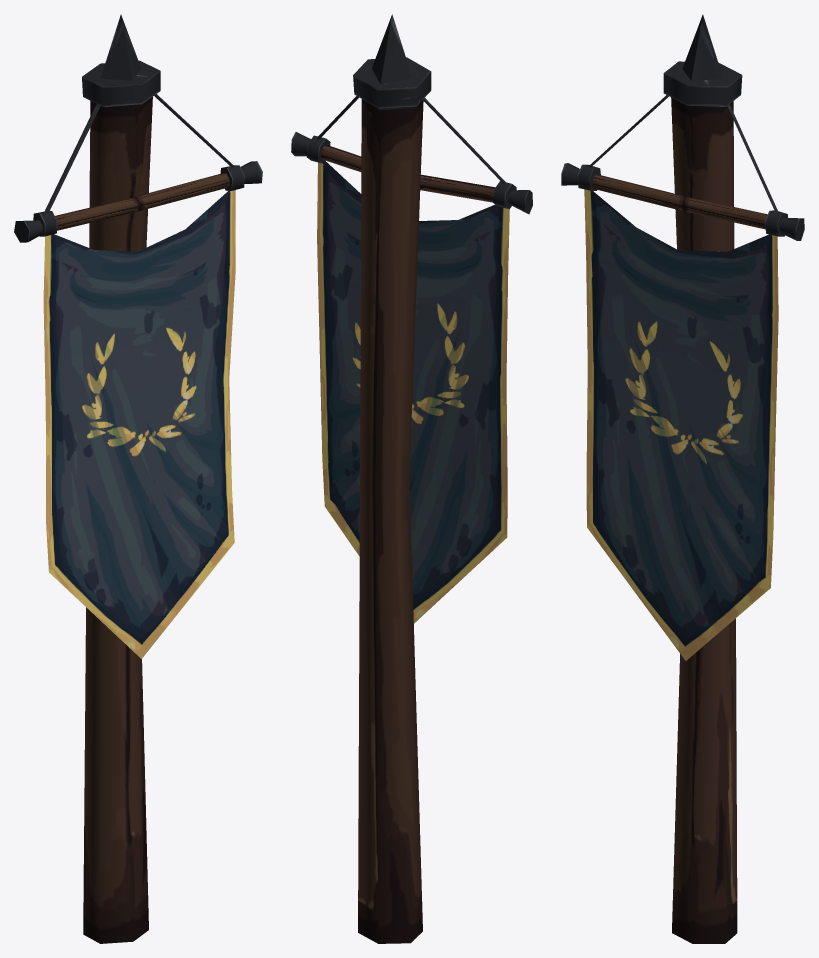
Rendered from SM_PROP_flag_dungeon_05.fbx.
3 renders of one model, left to right at view 1: azimuth 30°, elevation 25°; view 2: azimuth 150°, elevation 25°; view 3: azimuth 330°, elevation 25°, orthographic.
Parts seen in each view (by area): view 1: SM_PROP_flag_dungeon_05; view 2: SM_PROP_flag_dungeon_05; view 3: SM_PROP_flag_dungeon_05.
Boxes of the visible parts, box(x1,y1,x2,y2) form: SM_PROP_flag_dungeon_05: box(14, 14, 262, 943); SM_PROP_flag_dungeon_05: box(291, 14, 532, 943); SM_PROP_flag_dungeon_05: box(561, 14, 804, 943).
Bounding box in the file's own units: 125 × 463 × 40.28.
